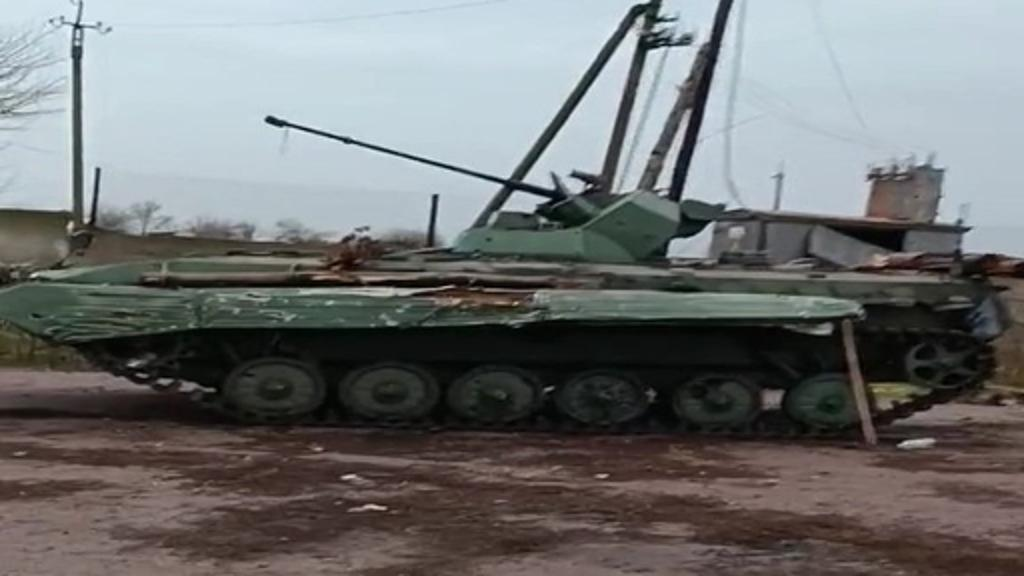APC-IFV: (0, 100, 1002, 456)
